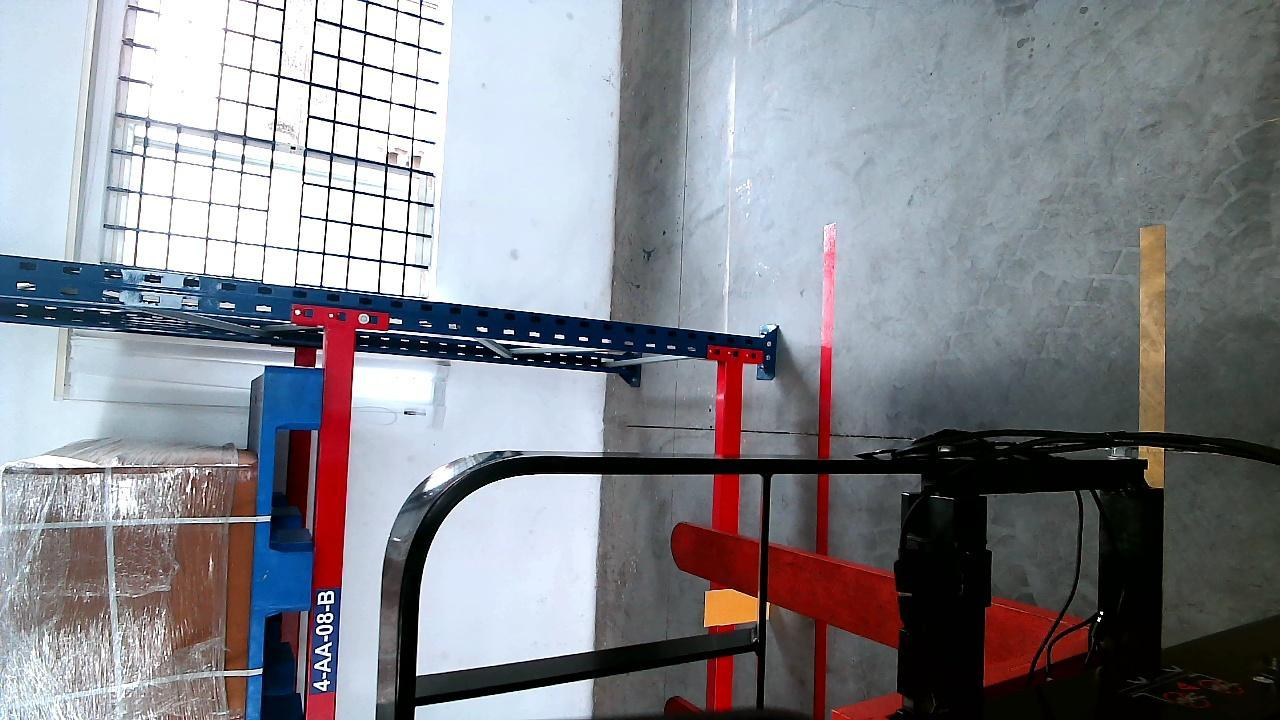red_line: (817, 225, 837, 477)
yellow_line: (1141, 219, 1165, 453)
